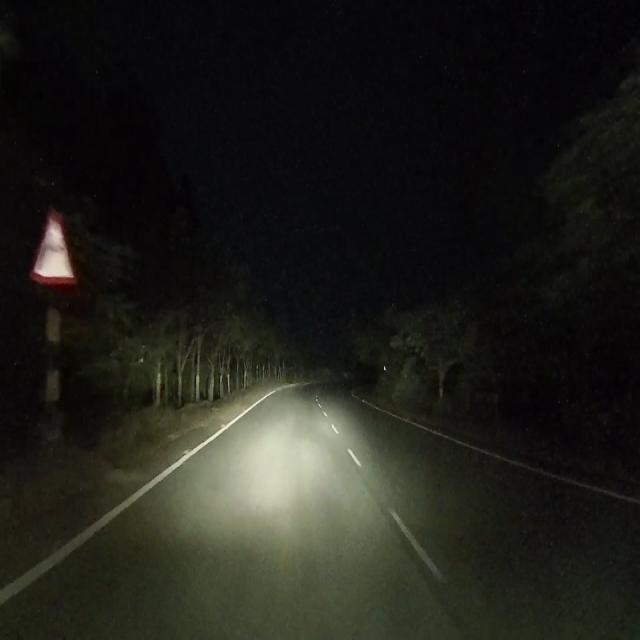right-hand-curve: (31, 214, 73, 278)
